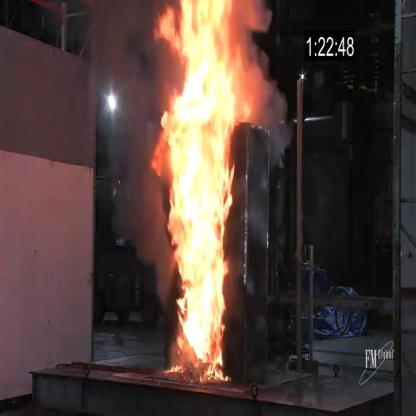fire: (151, 5, 252, 390)
